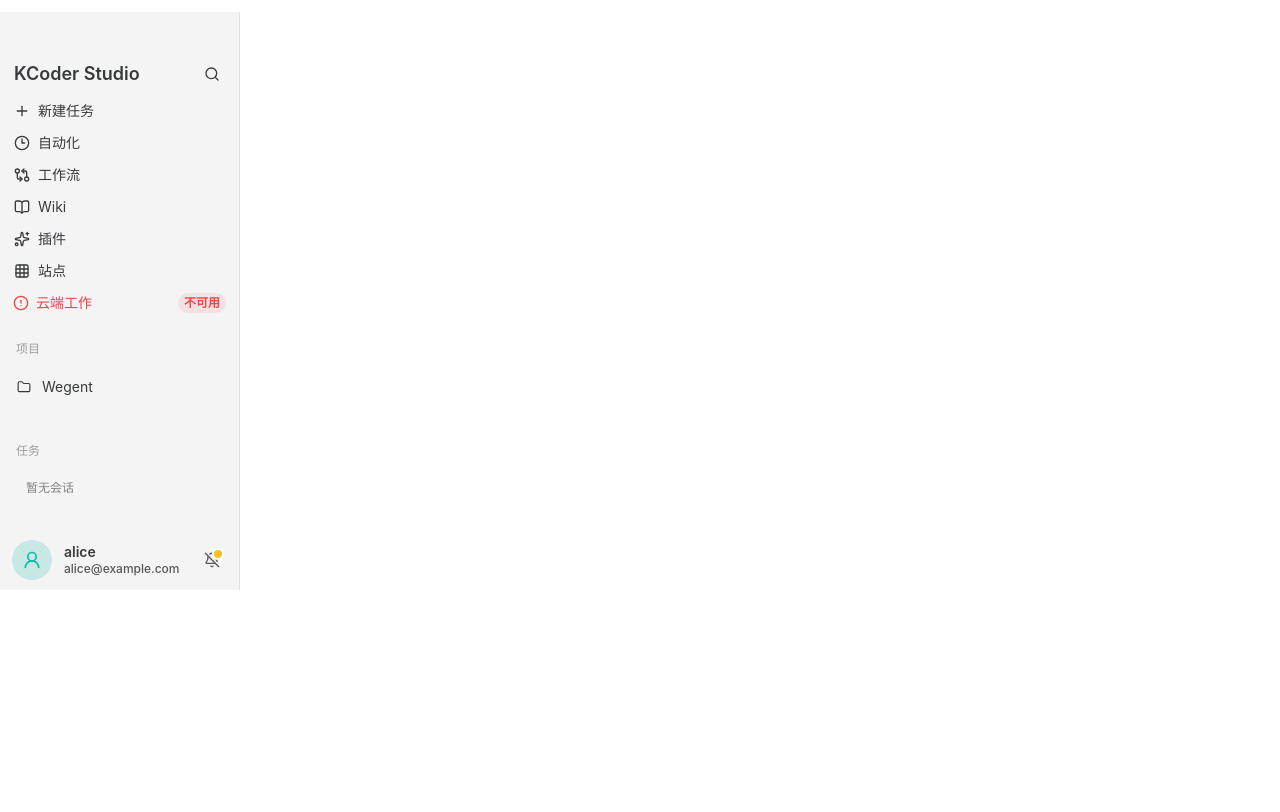
Test: DesktopSidebar device › opens cloud work error details from the warning icon
Step 1. Click the button with test id "sidebar-cloud-error-button" → (21, 303), box [9,291,33,315]
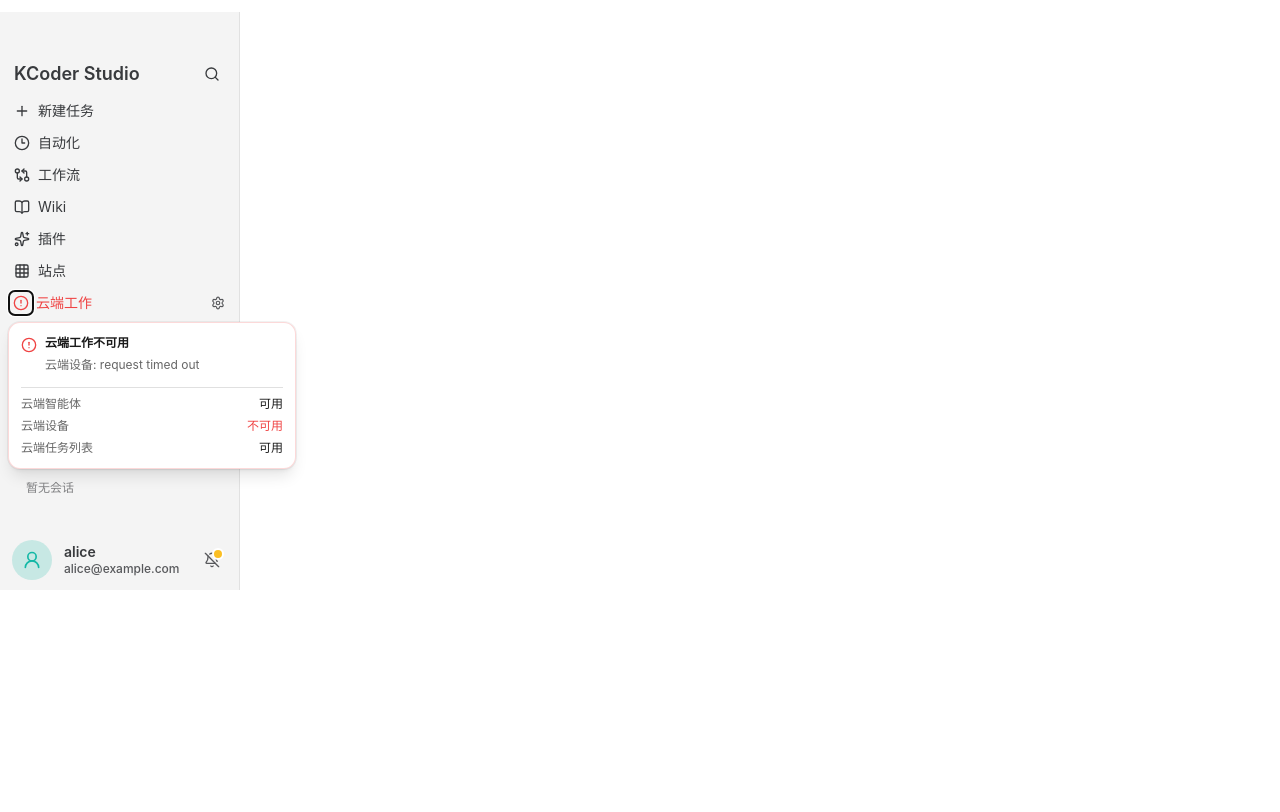
Now the message with test id "sidebar-cloud-error-popover" shows "云端工作不可用", box [45,335,129,350]
Now the message with test id "sidebar-cloud-error-popover" shows "云端设备: request timed out", box [45,357,200,372]
Now the message with test id "sidebar-cloud-error-popover" shows "云端设备", box [21,418,69,433]
Step 2. Click the element that starts with "KCoder Studio" → (640, 764), box [0,12,1279,811]
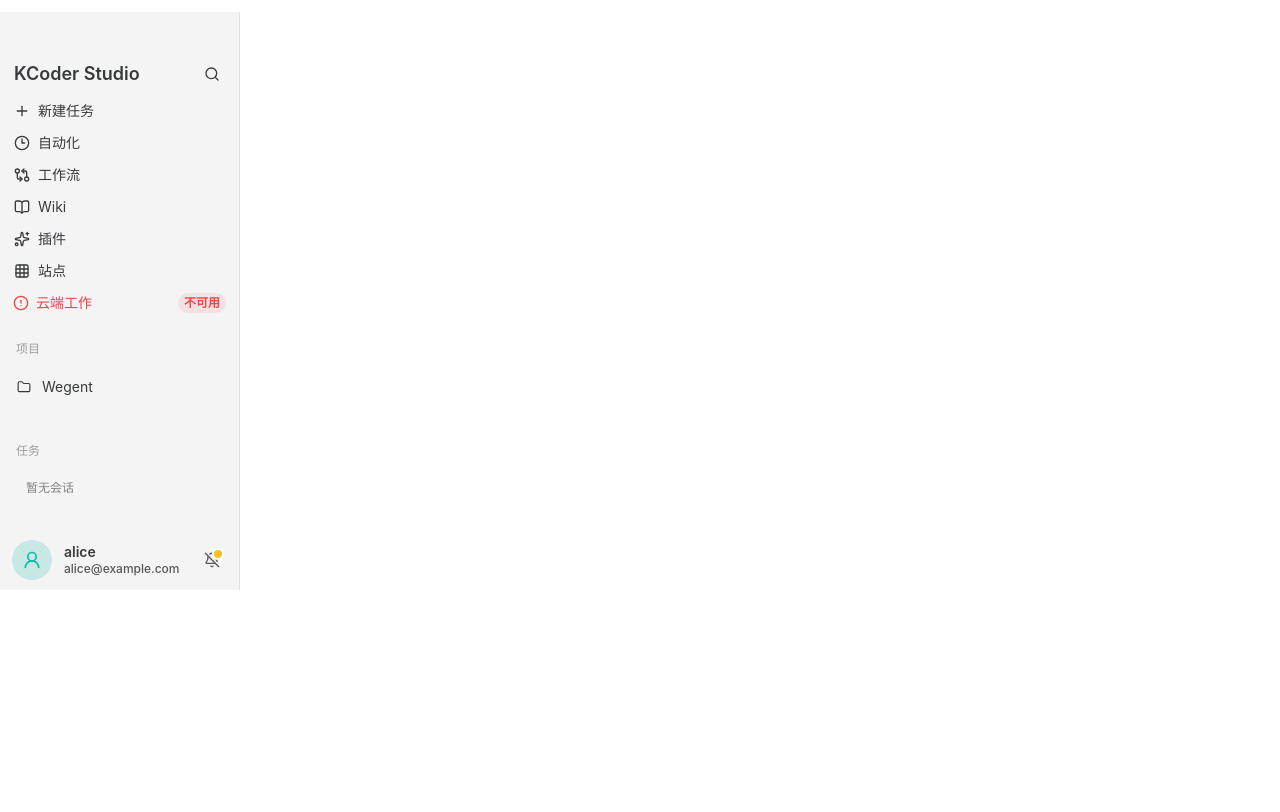
Now the message with test id "sidebar-cloud-error-popover" is gone
